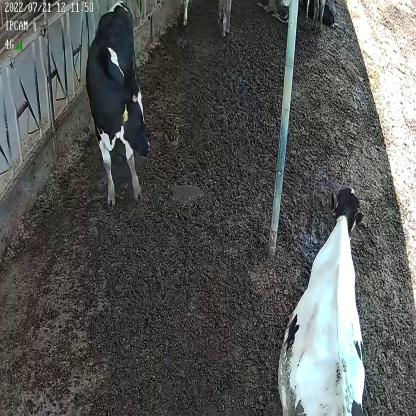cow: (276, 184, 366, 416), (86, 3, 154, 202)
